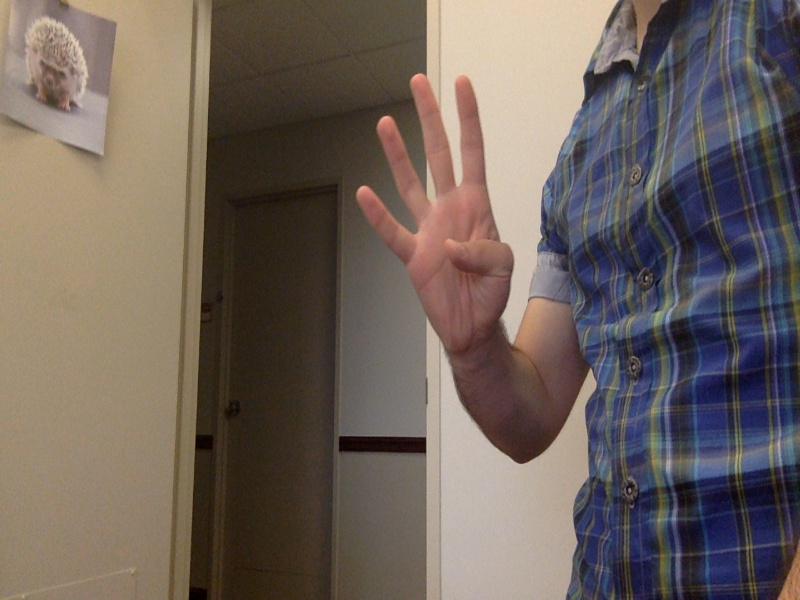4-hand: (356, 68, 516, 358)
